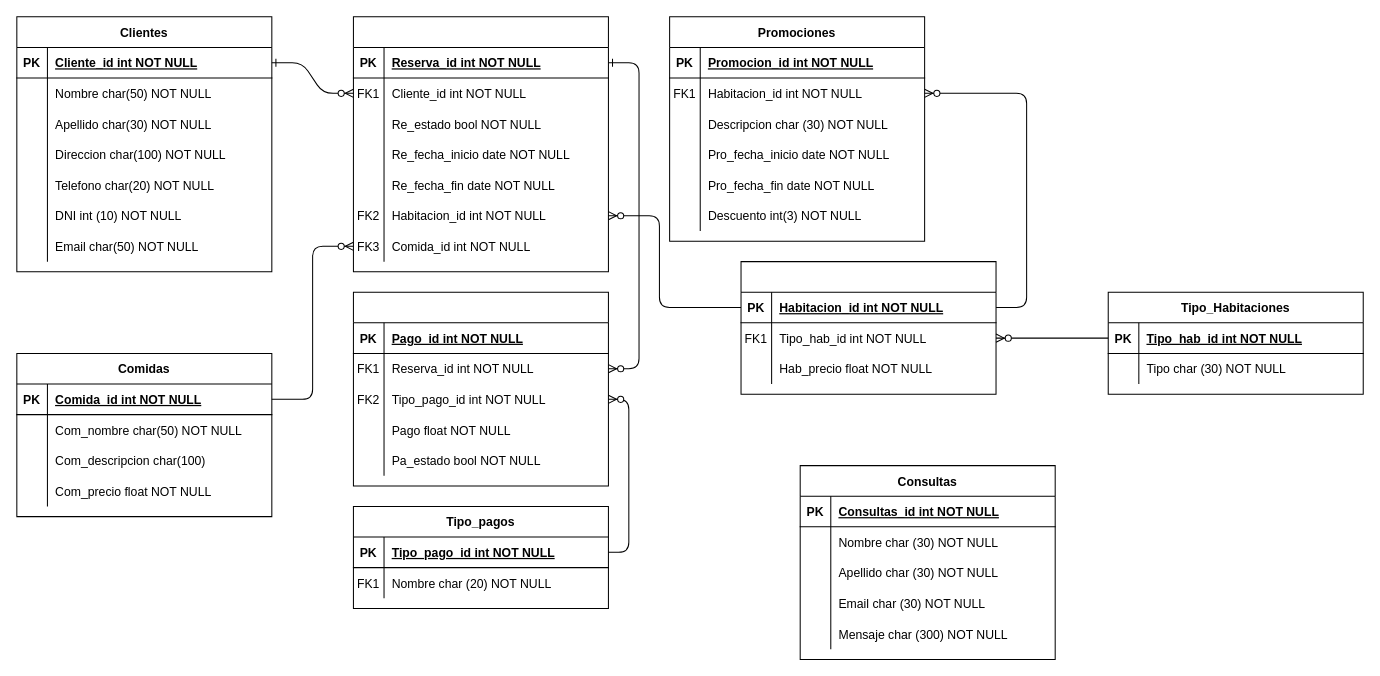
Image size: 1380x676. Some labels were removed from this diagram. Each missing label, with the box of its shape:
Habitaciones: (740, 261, 996, 394)
Pagos: (352, 291, 608, 486)
Reservas: (352, 16, 608, 272)
